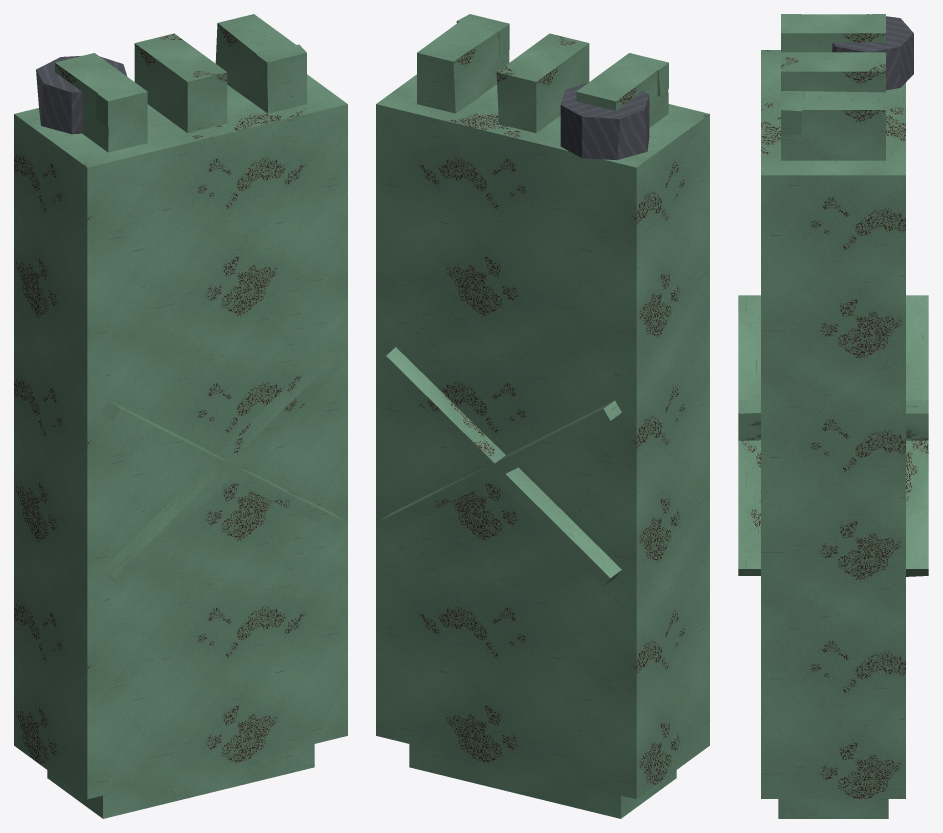
The model's file is jerrycan_v4.glb.
The picture shows the model from 3 angles, left to right: view 1: azimuth 30°, elevation 25°; view 2: azimuth 150°, elevation 25°; view 3: azimuth 270°, elevation 25°; orthographic projection.
Parts seen in each view (by area): view 1: Variant_jerrycan_4; view 2: Variant_jerrycan_4; view 3: Variant_jerrycan_4.
Boxes of the visible parts, box(x1,y1,x2,y2) form: Variant_jerrycan_4: box(14, 14, 347, 818); Variant_jerrycan_4: box(376, 14, 709, 818); Variant_jerrycan_4: box(738, 14, 928, 818).
Bounding box in the file's own units: 0.17 × 0.446 × 0.109.
2 materials, 2 textured.
